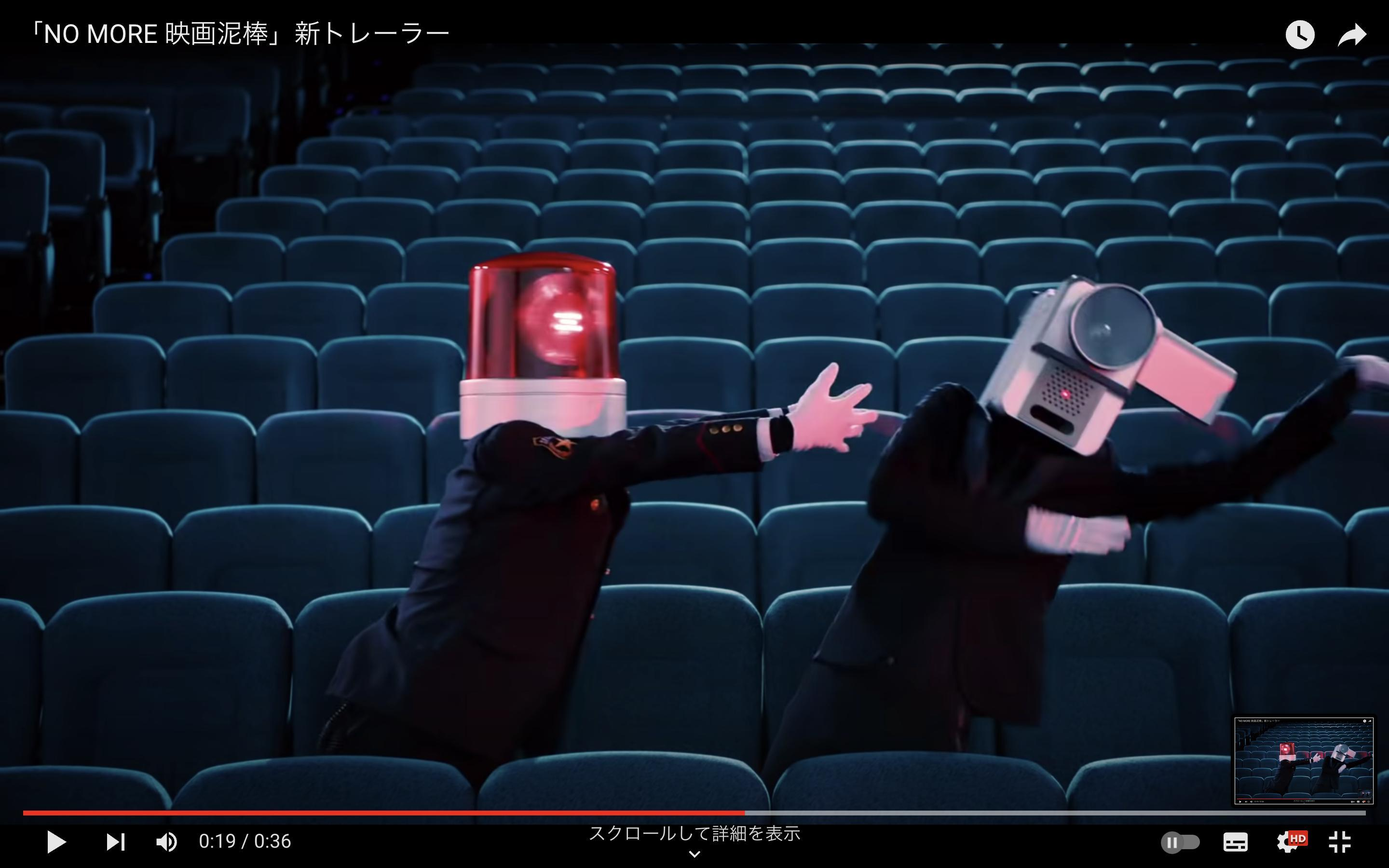no more kid: (980, 278, 1237, 456)
